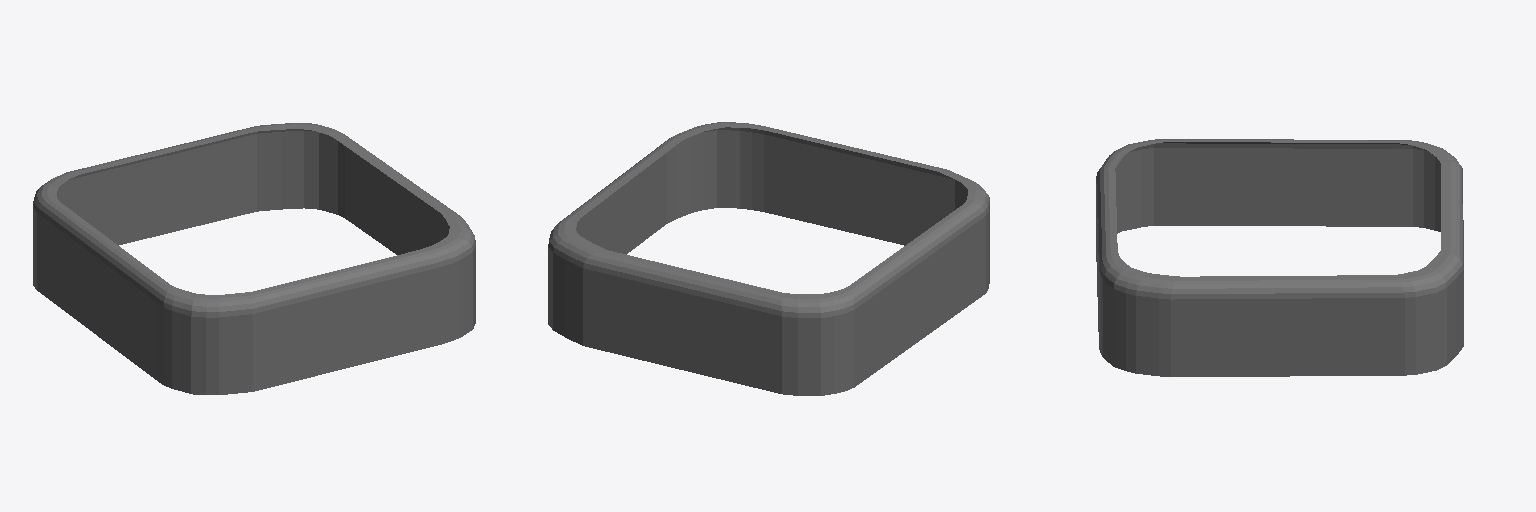
The model's file is ForceField.obj.
The picture shows the model from 3 angles: view 1: azimuth 30°, elevation 25°; view 2: azimuth 150°, elevation 25°; view 3: azimuth 270°, elevation 25°; orthographic projection.
Parts seen in each view (by area): view 1: Field, Field.001; view 2: Field, Field.001; view 3: Field, Field.001.
Part boxes in pixels (x1,y1,x2,y2): Field: (33, 123, 475, 394); Field.001: (33, 123, 475, 394); Field: (548, 122, 989, 395); Field.001: (548, 123, 989, 395); Field: (1096, 139, 1463, 376); Field.001: (1096, 139, 1463, 376).
Size of the model in its own units: 166 by 46.59 by 170.